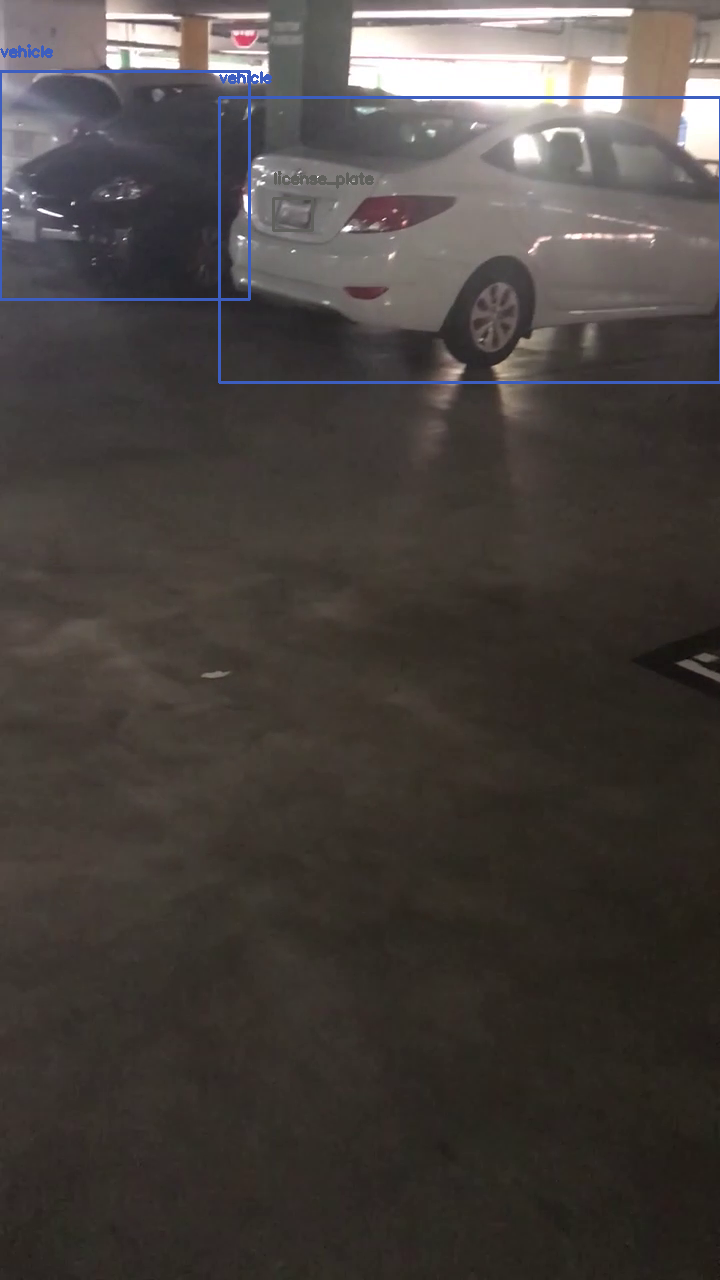license_plate: (273, 198, 312, 230)
vehicle: (219, 97, 720, 382), (0, 71, 249, 299)
